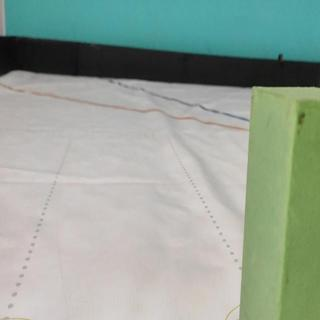greenbox: (239, 85, 320, 320)
